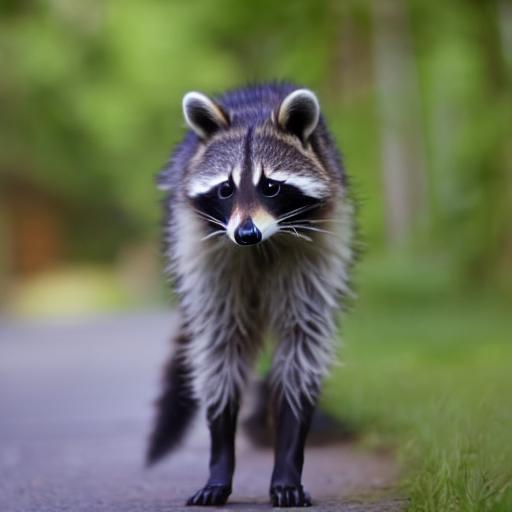raccoon: (143, 69, 366, 412)
